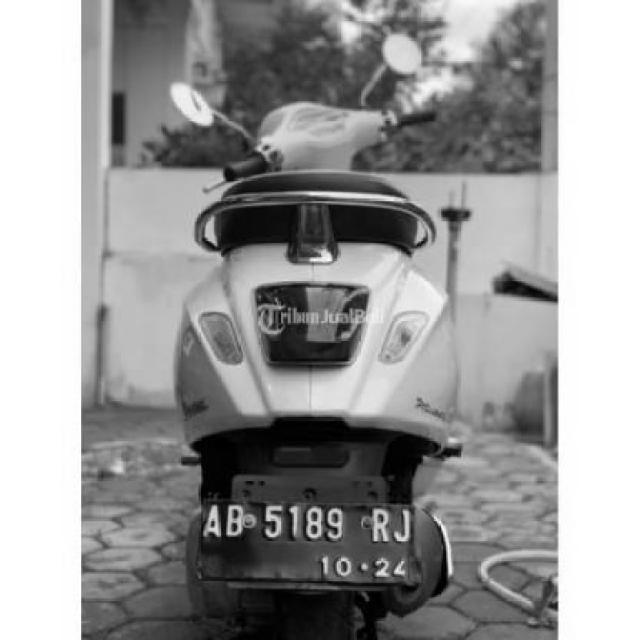1: (286, 506, 304, 540)
5: (260, 504, 286, 542)
8: (306, 508, 325, 542)
9: (326, 506, 348, 547)
A: (203, 504, 221, 540)
B: (226, 504, 244, 540)
J: (396, 508, 416, 548)
R: (364, 506, 395, 554)
